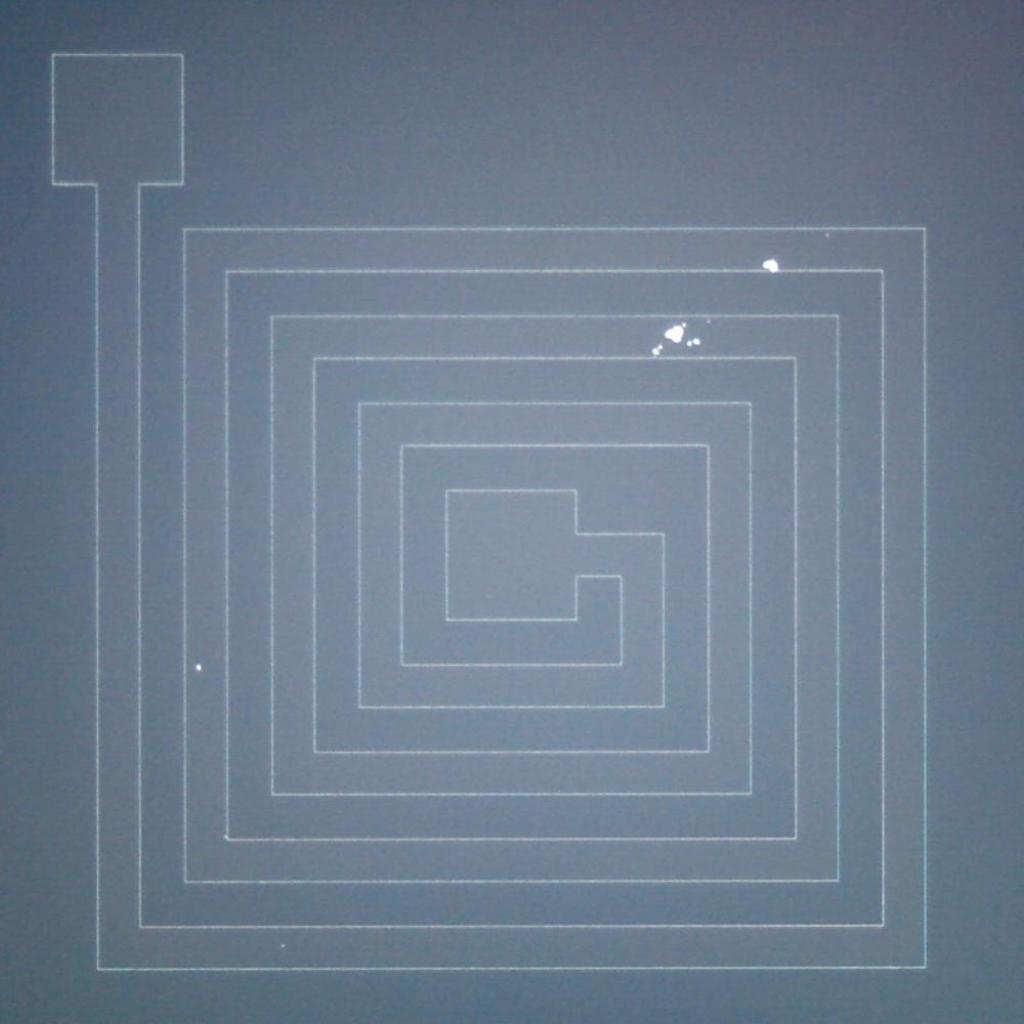dot: (665, 327, 683, 343), (765, 260, 778, 270), (694, 338, 701, 345), (658, 344, 663, 350), (653, 350, 658, 355), (196, 666, 202, 670), (682, 324, 686, 327), (687, 342, 691, 345)
